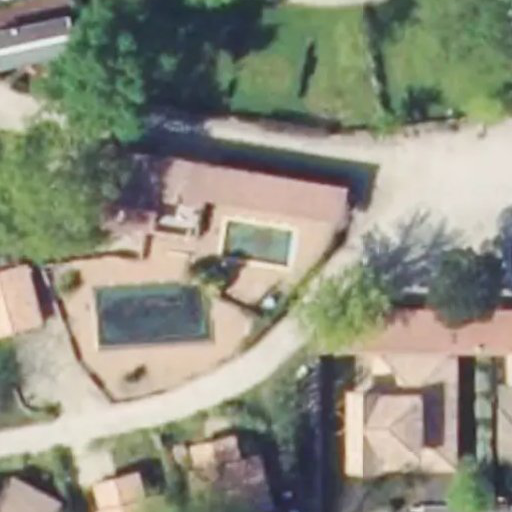pool: (96, 286, 209, 341), (225, 222, 291, 264)
